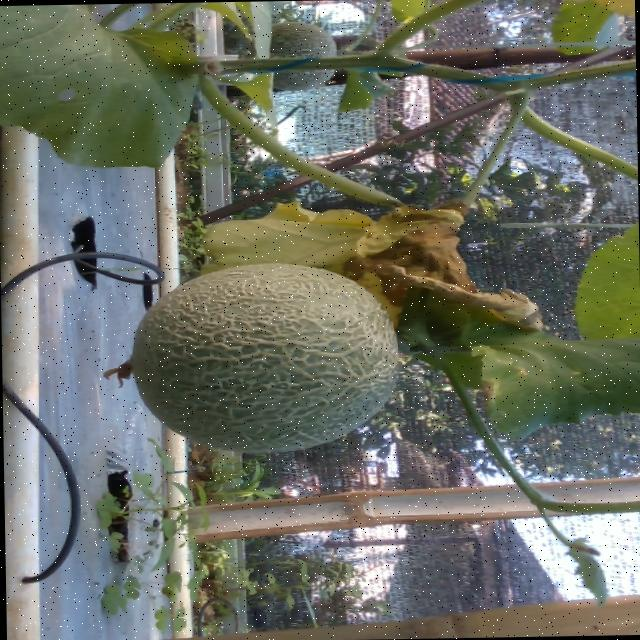melon: (129, 264, 395, 453)
